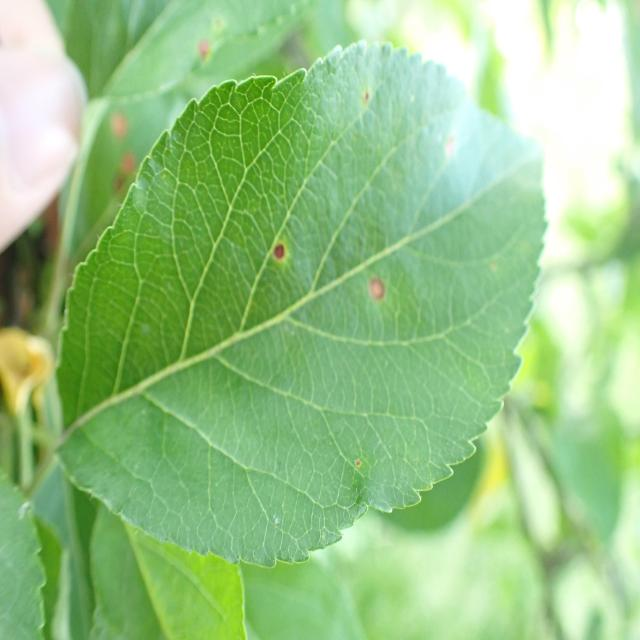Black Rot: (425, 127, 466, 193), (270, 218, 296, 287), (354, 252, 389, 300)
